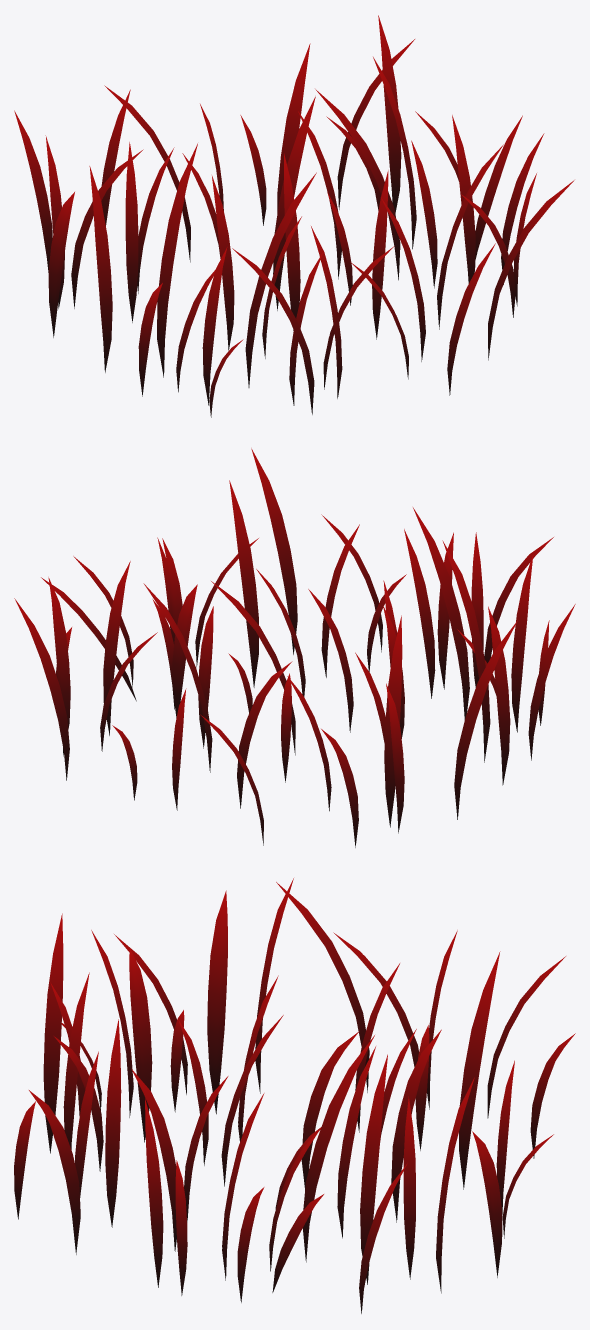
Rendered from Grassreall.fbx.
3 views of the same model, one above another, from view 1: azimuth 30°, elevation 25°; view 2: azimuth 150°, elevation 25°; view 3: azimuth 270°, elevation 25° (orthographic). The views are drawn at different scales.
Visible parts, largest first — view 1: Grass; view 2: Grass; view 3: Grass.
Part boxes in pixels (x1=…): Grass: x1=14, y1=15, x2=574, y2=417; Grass: x1=14, y1=448, x2=575, y2=847; Grass: x1=14, y1=878, x2=575, y2=1313.
Bounding box in the file's own units: 296 × 135 × 278.
